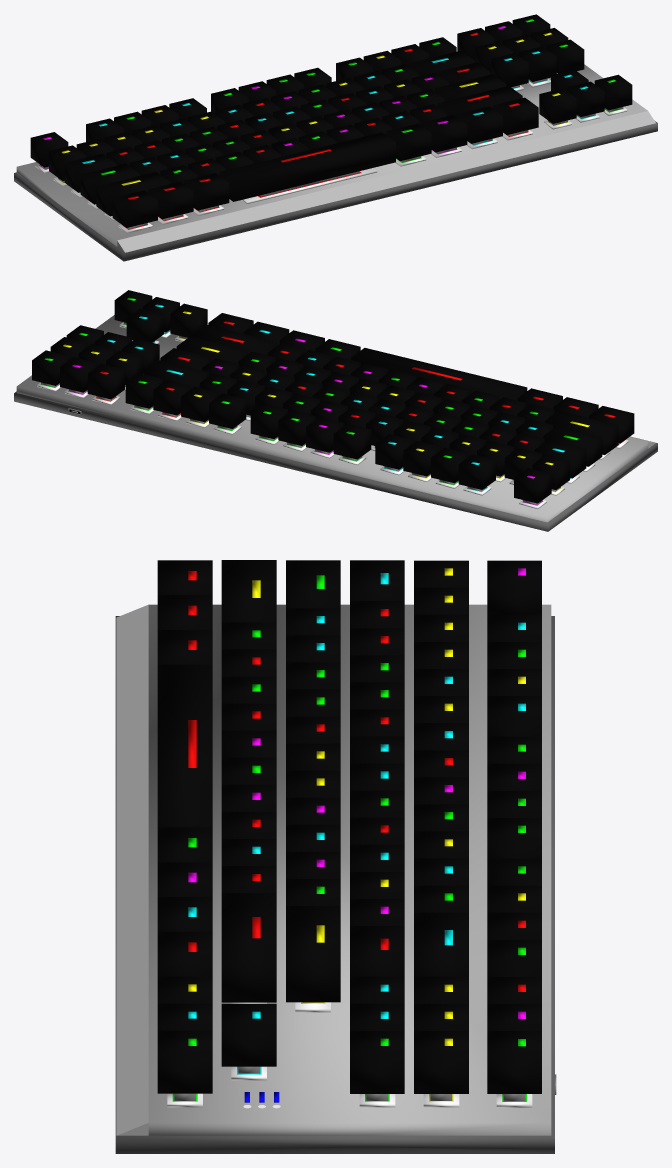
File: keyboard-1.glb
3 renders of one model, top to bottom at view 1: azimuth 30°, elevation 25°; view 2: azimuth 150°, elevation 25°; view 3: azimuth 270°, elevation 25°, orthographic. The views are drawn at different scales.
Visible parts, largest first — view 1: Object_8, Object_2, Object_3, Object_7, Object_4, Object_5, Object_11, Object_10, Object_12; view 2: Object_8, Object_2, Object_3, Object_7, Object_5, Object_4, Object_11, Object_10, Object_12; view 3: Object_8, Object_2, Object_3, Object_7, Object_4, Object_11, Object_10, Object_12, Object_5.
Part boxes in pixels (box(x1,y1,x2,y2)): Object_8: box(30, 14, 632, 227); Object_2: box(16, 64, 655, 252); Object_3: box(14, 120, 657, 261); Object_7: box(35, 78, 627, 233); Object_4: box(119, 32, 528, 229); Object_5: box(39, 73, 623, 229); Object_11: box(100, 19, 623, 175); Object_10: box(80, 51, 595, 193); Object_12: box(57, 32, 568, 185); Object_8: box(32, 290, 634, 503); Object_2: box(16, 315, 655, 522); Object_3: box(14, 391, 657, 531); Object_7: box(37, 322, 628, 508); Object_5: box(41, 322, 619, 505); Object_4: box(96, 321, 624, 444); Object_11: box(40, 297, 578, 485); Object_10: box(107, 304, 570, 492); Object_12: box(63, 311, 589, 492); Object_8: box(157, 560, 541, 1093); Object_2: box(116, 604, 551, 1135); Object_3: box(115, 616, 554, 1153); Object_7: box(167, 1002, 532, 1108); Object_4: box(188, 571, 525, 991); Object_11: box(172, 575, 526, 1101); Object_10: box(188, 573, 525, 1074); Object_12: box(188, 568, 525, 1101); Object_5: box(174, 1002, 556, 1101).
Bounding box in the file's own units: 33.7 × 2.69 × 12.04.
